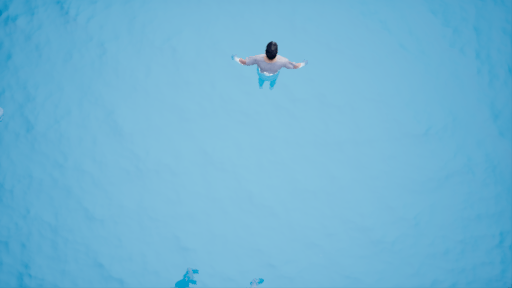person: (218, 37, 316, 93)
